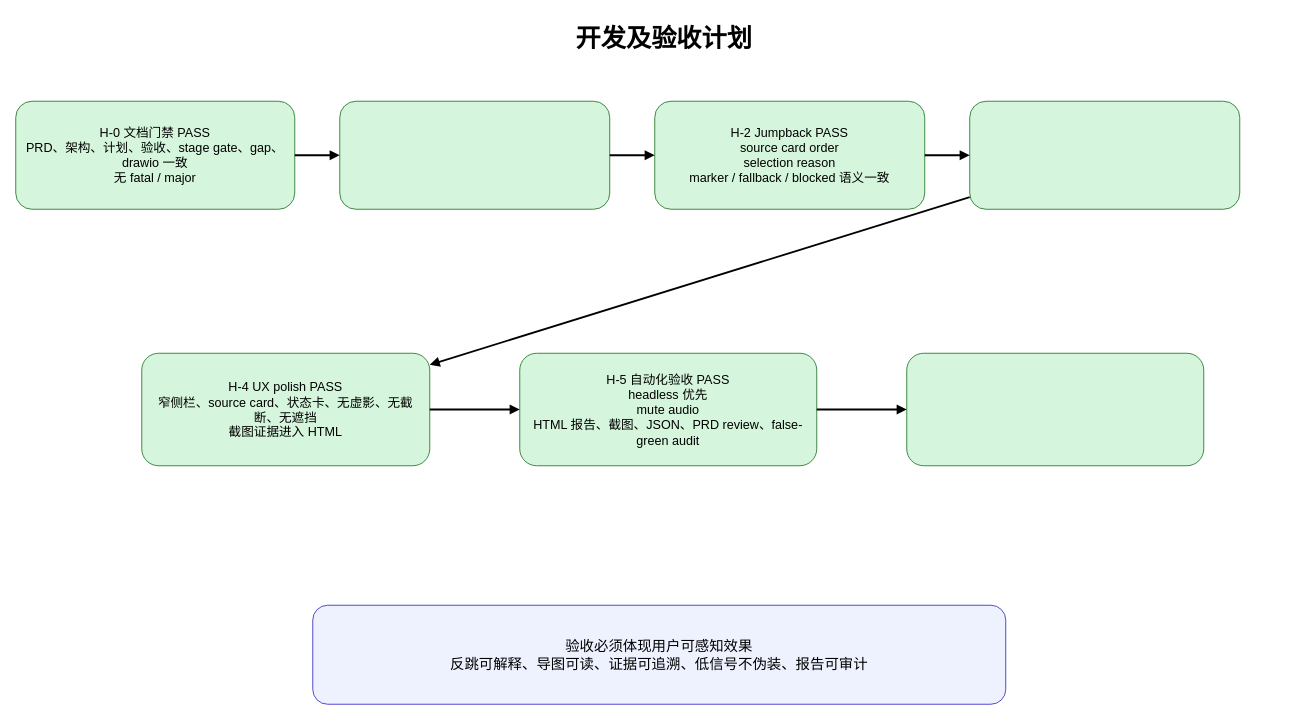
This 1292x720 diagram has some shape labels left out. Each missing label, with the centre of its shape:
H-1 样本矩阵 PASS 101 candidate 36 acceptance subset 登录和替代规则明确: (x=474, y=154)
H-3 Mindmap PASS 短标签、去重、语义节点、噪声过滤、source binding 新增噪声回归测试: (x=1104, y=154)
H-6 出门审计 无 fatal / major 允许 post-V1 hardening passed 不扩大为 V2 或最终 UX: (x=1055, y=409)
